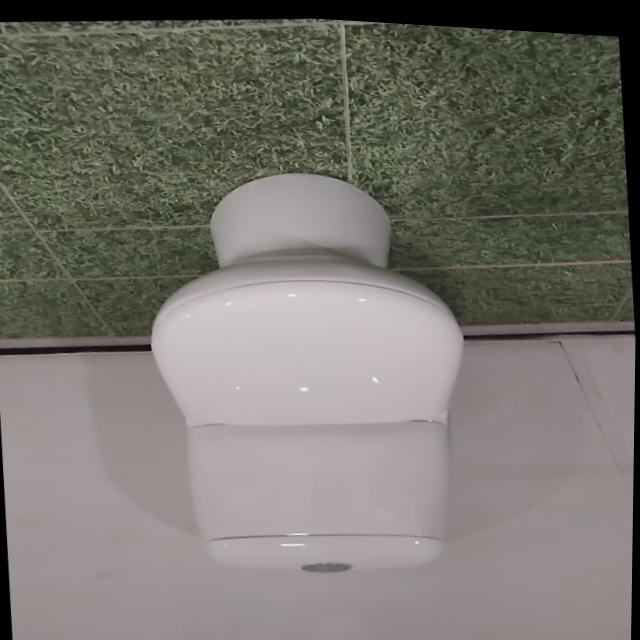toilet: (135, 150, 484, 588)
